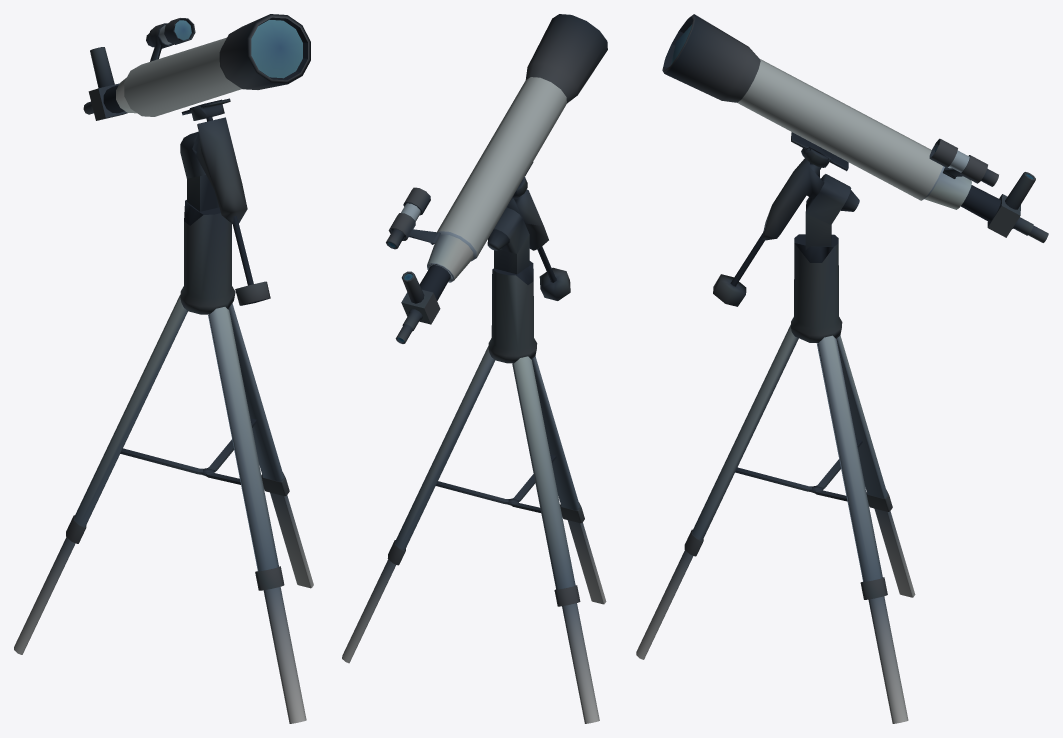
Rendered from human-tools-telescope_v1.glb.
The picture shows the model from 3 angles, left to right: view 1: azimuth 30°, elevation 25°; view 2: azimuth 150°, elevation 25°; view 3: azimuth 270°, elevation 25°; orthographic projection. The views are drawn at different scales.
Parts seen in each view (by area): view 1: Telescope.001, Telescope; view 2: Telescope.001; view 3: Telescope.001.
Boxes of the visible parts, x1,y1,x2,y2 form: Telescope.001: [14, 14, 313, 723]; Telescope: [174, 19, 302, 78]; Telescope.001: [342, 14, 607, 723]; Telescope.001: [636, 14, 1048, 723].
Bounding box in the file's own units: 0.6715 × 1.5 × 0.8767.
